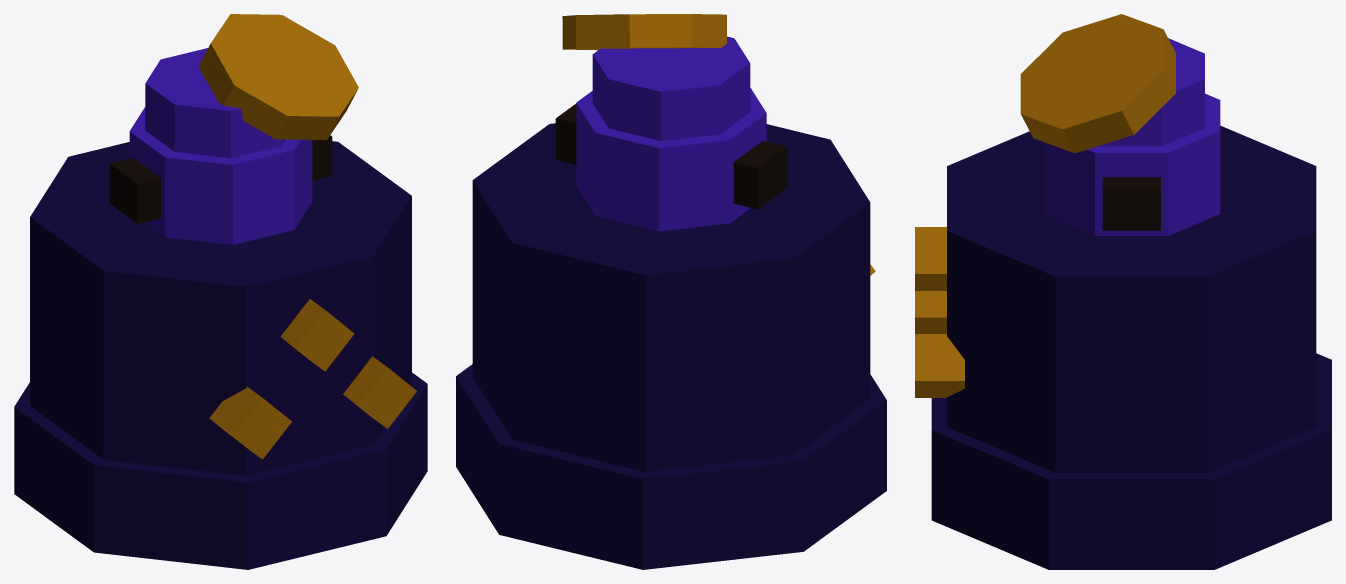
File: BolsaImpar_low.fbx
3 views of the same model, side by side, from view 1: azimuth 30°, elevation 25°; view 2: azimuth 150°, elevation 25°; view 3: azimuth 270°, elevation 25° (orthographic). The views are drawn at different scales.
Visible parts, largest first — view 1: BolsaImpar_low; view 2: BolsaImpar_low; view 3: BolsaImpar_low.
Part boxes in pixels (box(x1,y1,x2,y2)): BolsaImpar_low: box(14, 14, 427, 569); BolsaImpar_low: box(456, 14, 886, 569); BolsaImpar_low: box(915, 14, 1331, 569).
Size of the model in its own units: 48.04 by 62.08 by 50.02.
